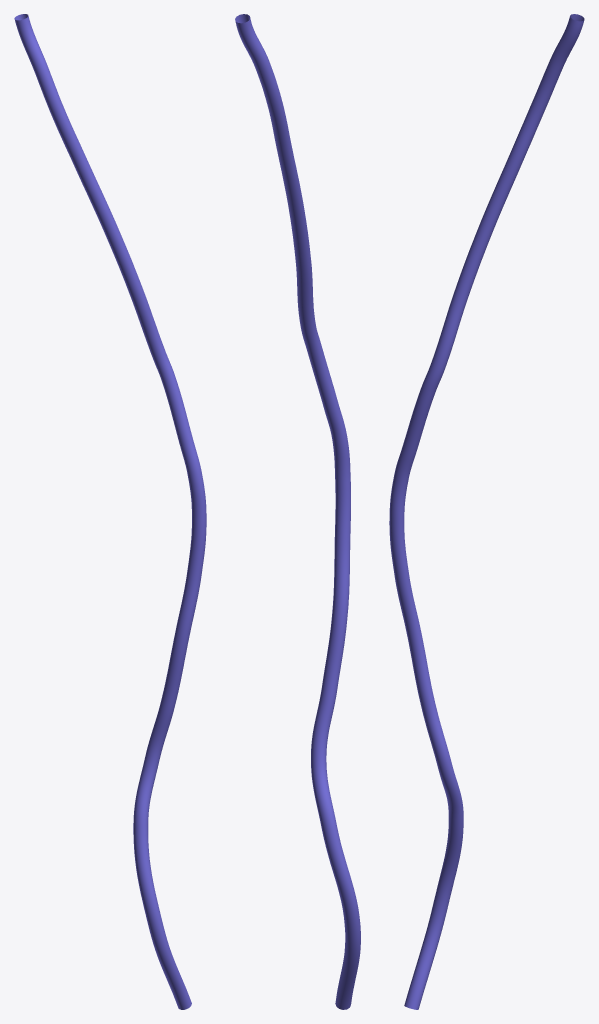
The model's file is Left_ascending_lumbal_vein_BezierCurve.343.glb.
The picture shows the model from 3 angles, left to right: view 1: azimuth 90°, elevation 25°; view 2: azimuth 150°, elevation 25°; view 3: azimuth 270°, elevation 25°; orthographic projection. The views are drawn at different scales.
Parts seen in each view (by area): view 1: Left_ascending_lumbal_vein_BezierCurve.343; view 2: Left_ascending_lumbal_vein_BezierCurve.343; view 3: Left_ascending_lumbal_vein_BezierCurve.343.
Boxes of the visible parts, <box> form: Left_ascending_lumbal_vein_BezierCurve.343: <box>14,14,206,1009</box>; Left_ascending_lumbal_vein_BezierCurve.343: <box>235,14,360,1009</box>; Left_ascending_lumbal_vein_BezierCurve.343: <box>389,14,584,1009</box>.
Size of the model in its own units: 0.0105 by 0.1766 by 0.0312.
